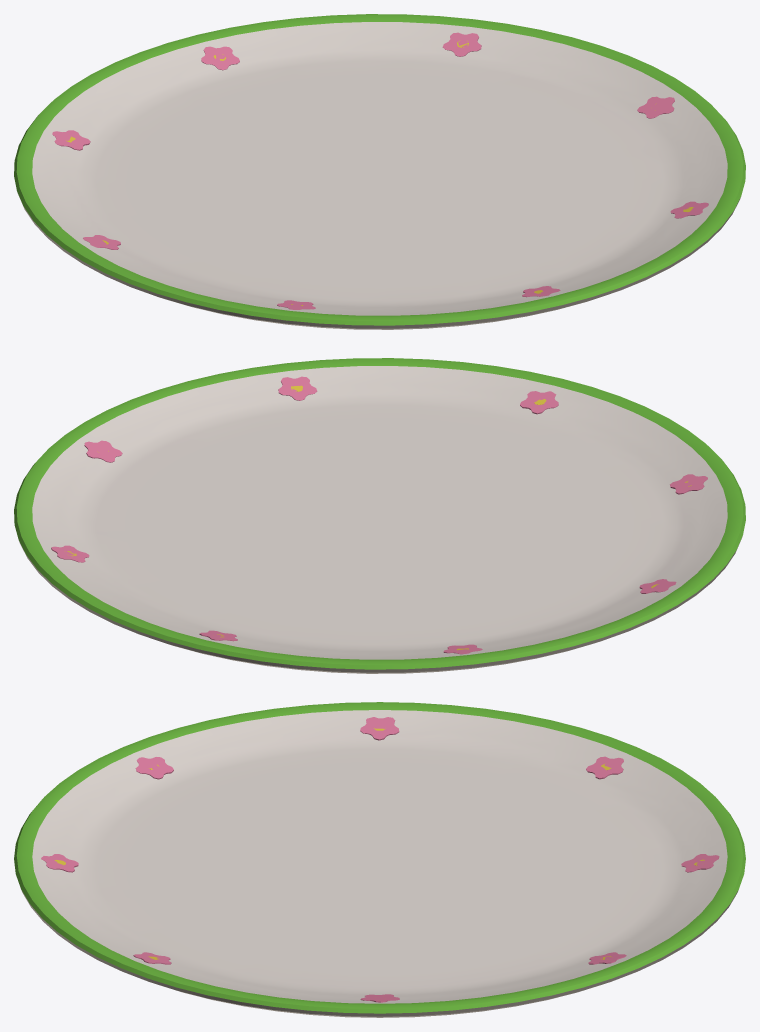
File: plate_flowers.glb
3 views of the same model, one above another, from view 1: azimuth 30°, elevation 25°; view 2: azimuth 150°, elevation 25°; view 3: azimuth 270°, elevation 25° (orthographic).
Parts seen in each view (by area): view 1: body; view 2: body; view 3: body.
Boxes of the visible parts, x1,y1,x2,y2 form: body: (14, 14, 745, 329); body: (14, 358, 745, 673); body: (14, 702, 745, 1017).
Bounding box in the file's own units: 1.6 × 0.0939 × 1.6.
